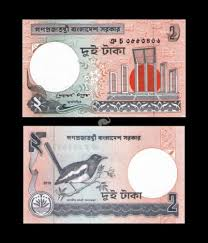2_taka: (29, 23, 181, 113), (29, 133, 179, 217)
